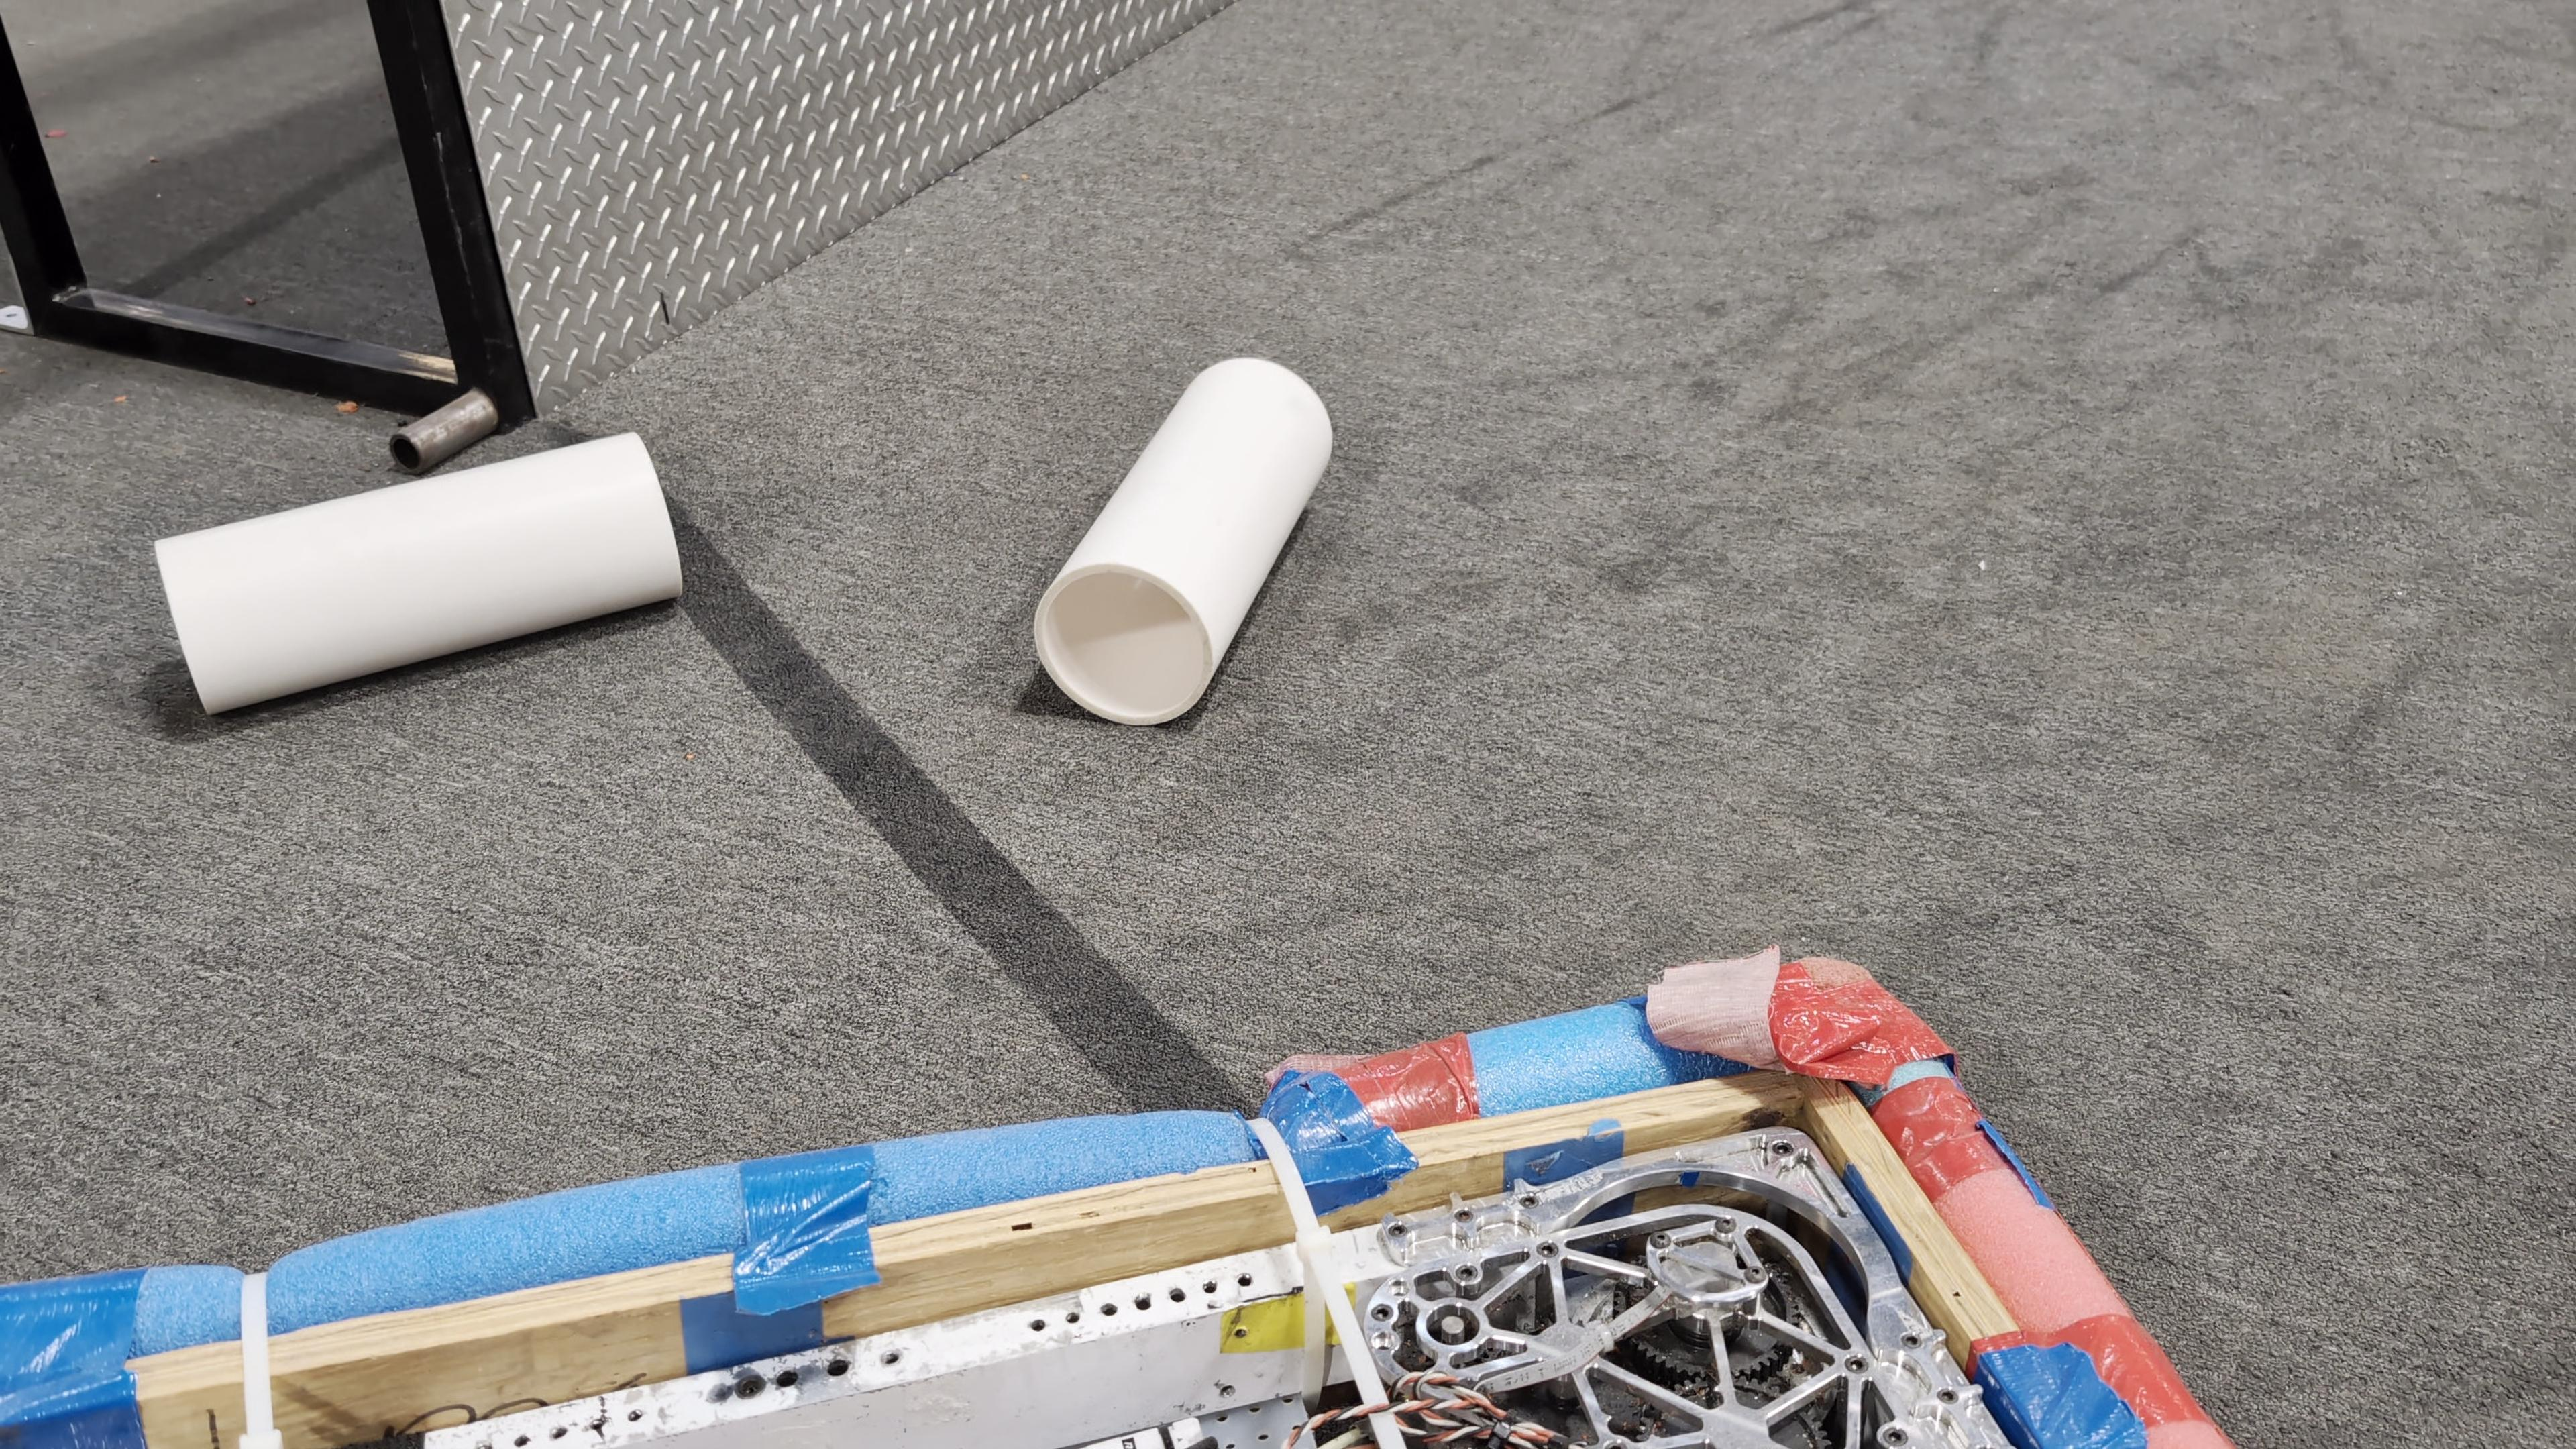coral: (150, 425, 685, 717), (1033, 352, 1336, 724)
